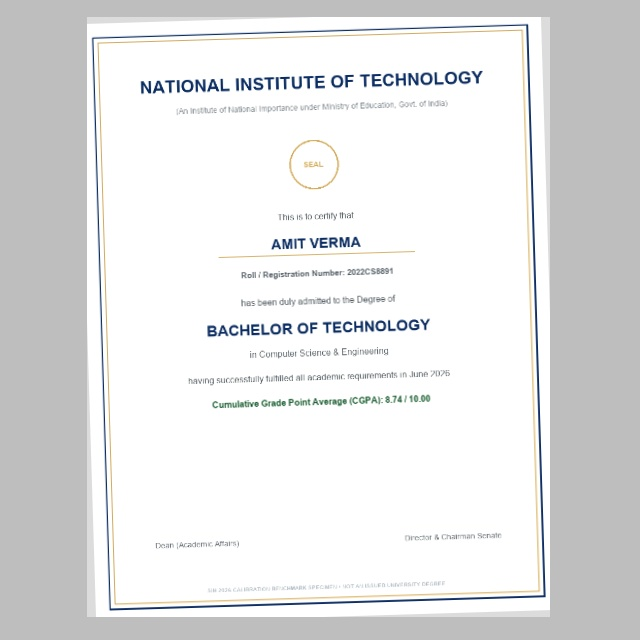marksheet: (87, 17, 550, 617)
